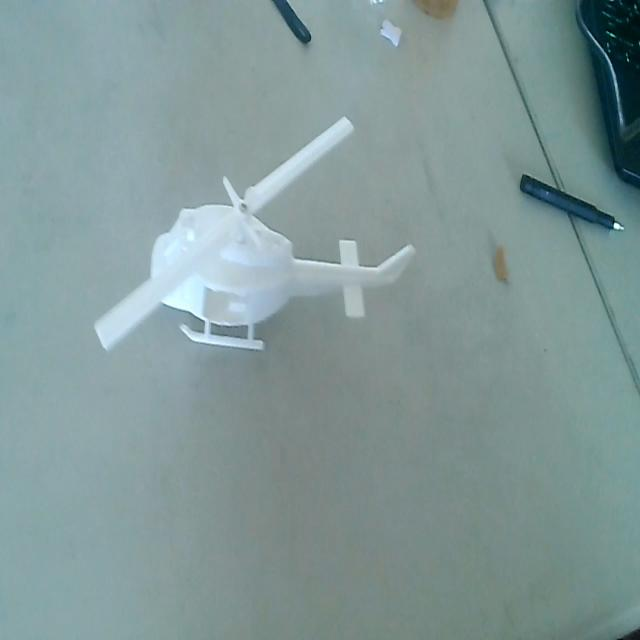Helicopter: (93, 104, 417, 388)
